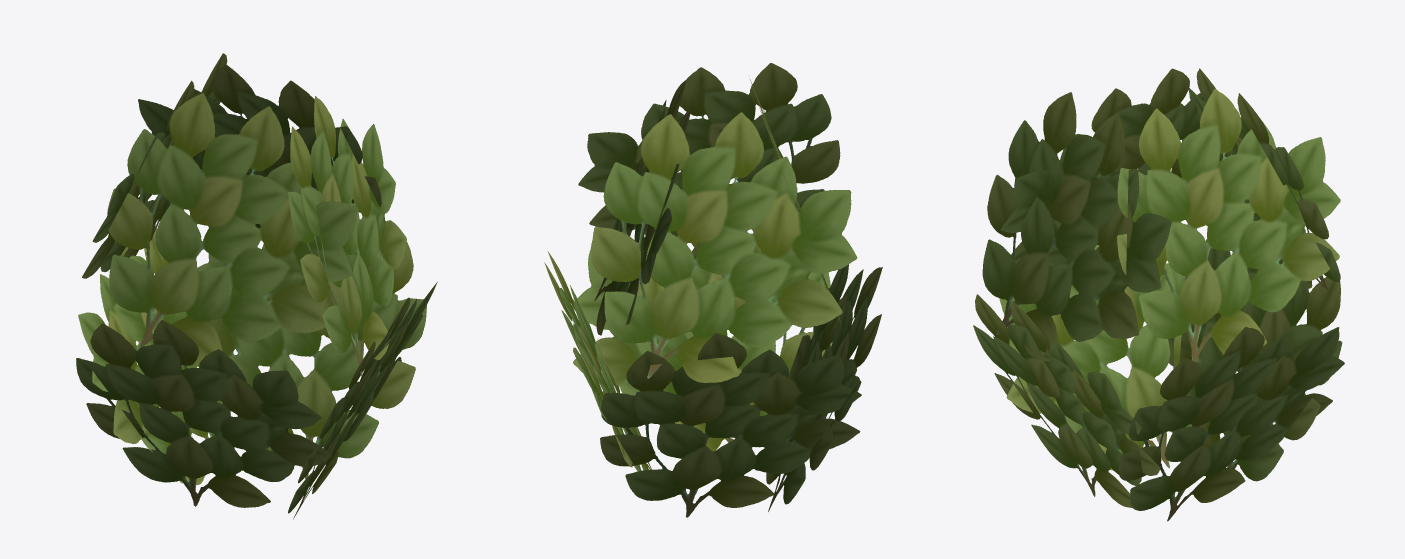
File: dark-bush-005-65.glb
3 renders of one model, left to right at view 1: azimuth 30°, elevation 25°; view 2: azimuth 150°, elevation 25°; view 3: azimuth 270°, elevation 25°, orthographic.
Visible parts, largest first — view 1: dark_bush.005_65; view 2: dark_bush.005_65; view 3: dark_bush.005_65.
Boxes of the visible parts, <box> form: dark_bush.005_65: <box>76,53,437,519</box>; dark_bush.005_65: <box>544,63,882,517</box>; dark_bush.005_65: <box>973,68,1344,521</box>.
Size of the model in its own units: 10.17 by 12.67 by 10.2.
Materials: 1 (1 with a texture image).
